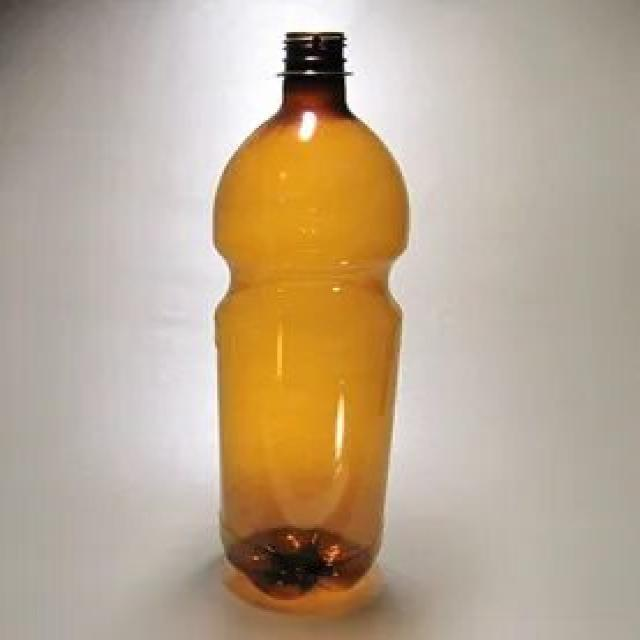brown: (212, 32, 410, 600)
